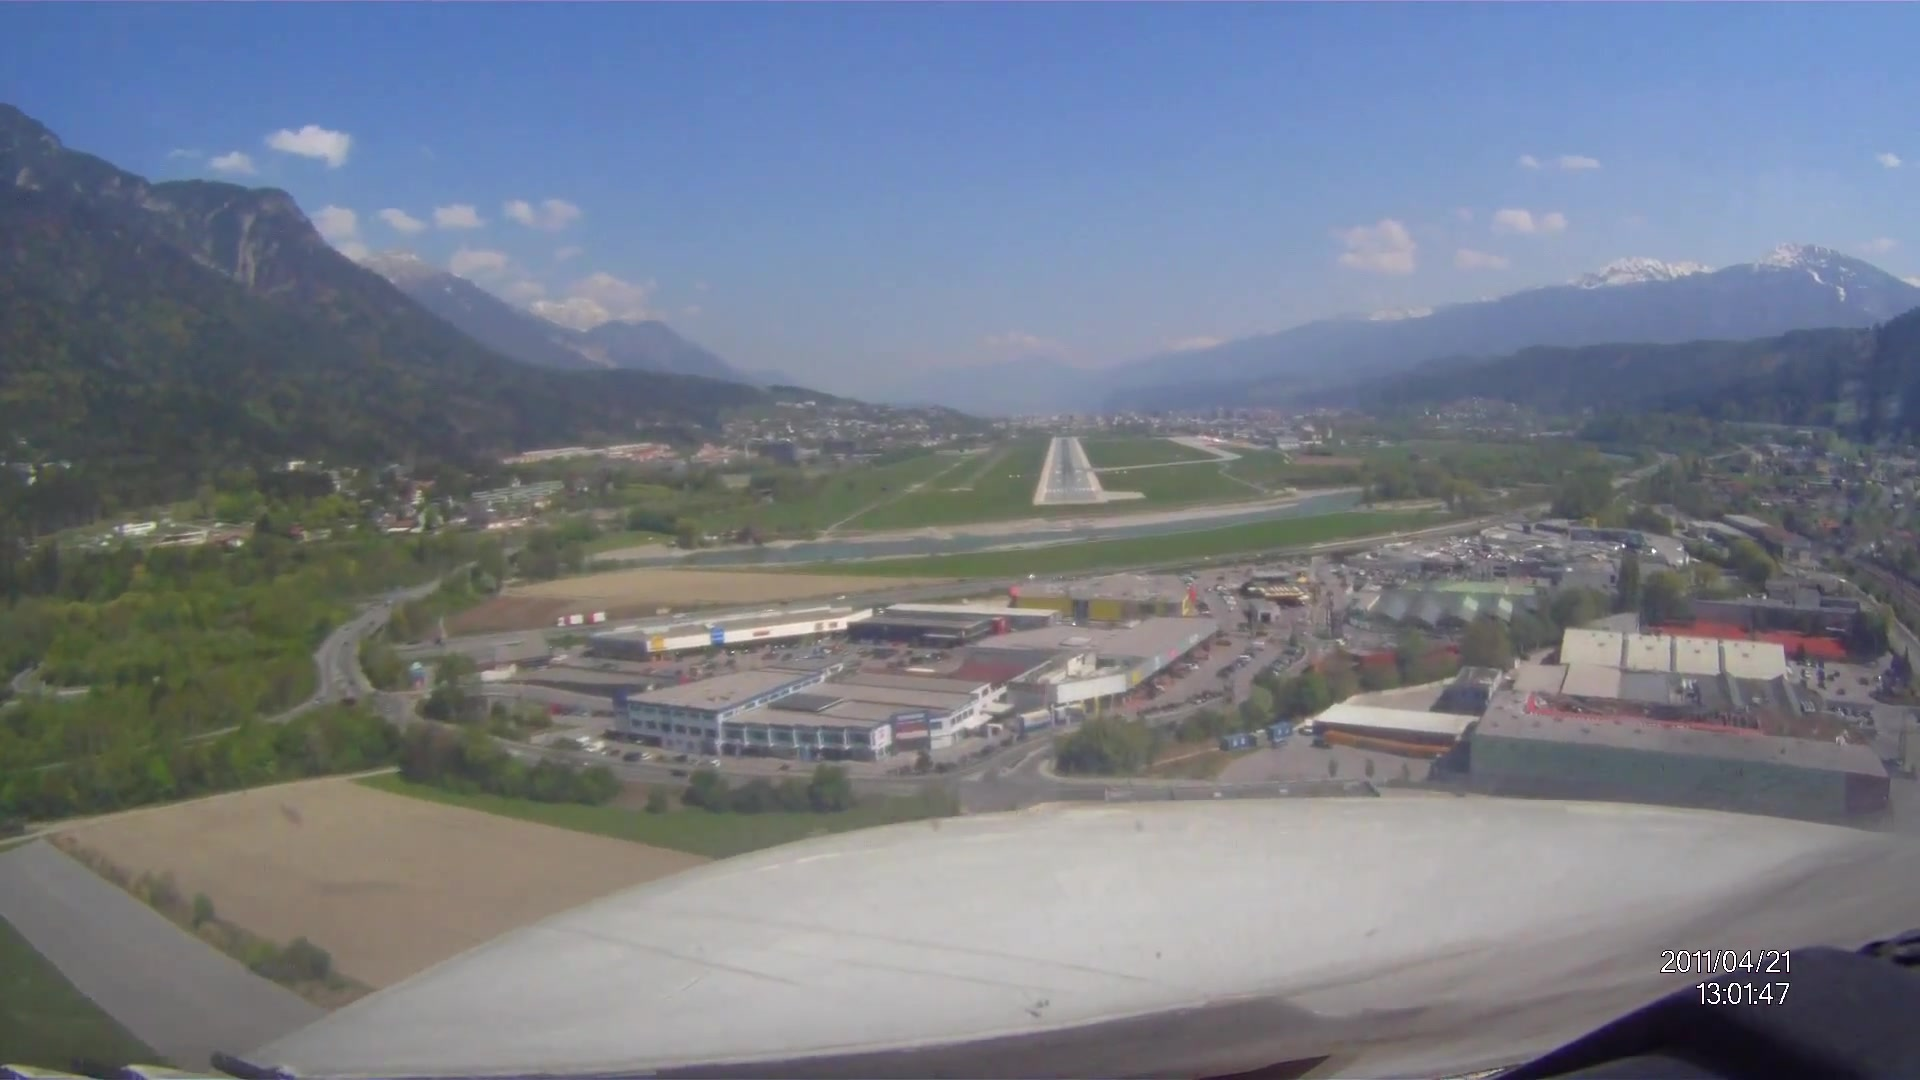entrance: (1044, 487, 1095, 492)
runway: (1043, 435, 1093, 496)
